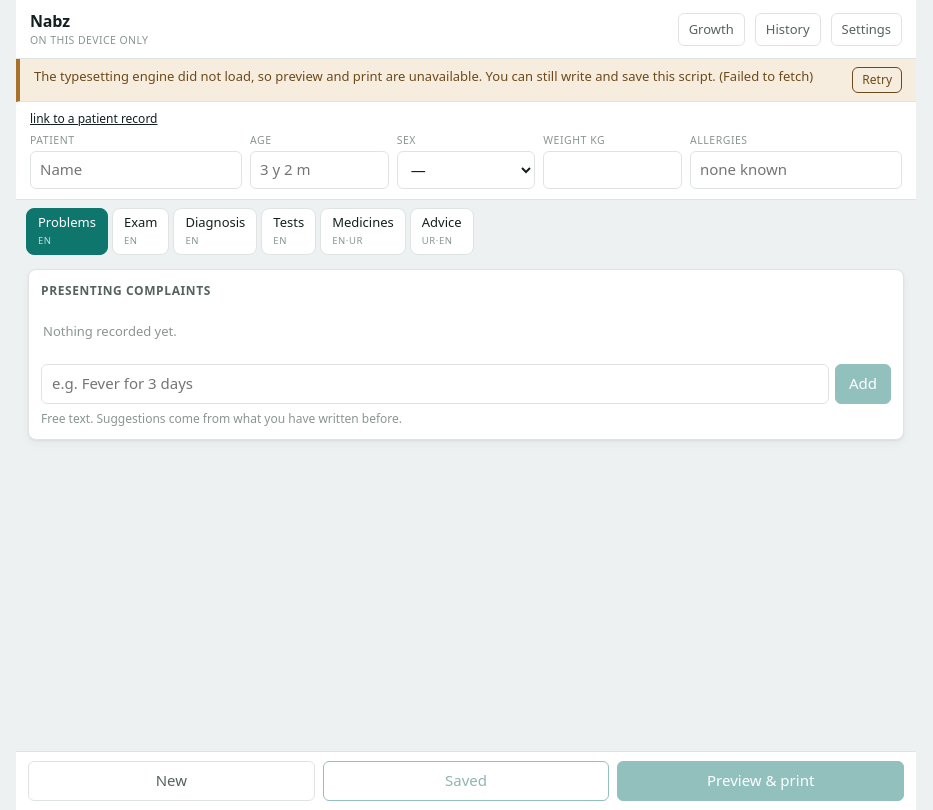
it: problems and diagnosis are free text › accepts anything typed
The width and height of the screenshot is (933, 810).
In the field with placeholder "e.g. Fever for 3 days": (435,384) [41, 364, 829, 404], type "Fever for 3 days"
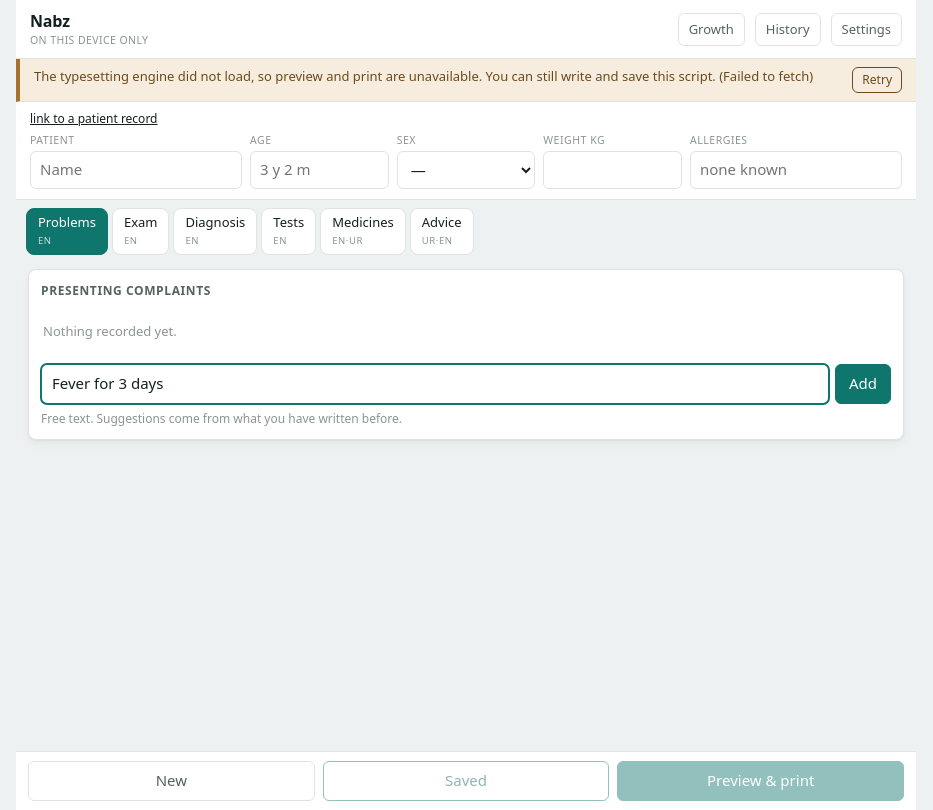
Click the button "Add": (863,384) [835, 364, 891, 404]
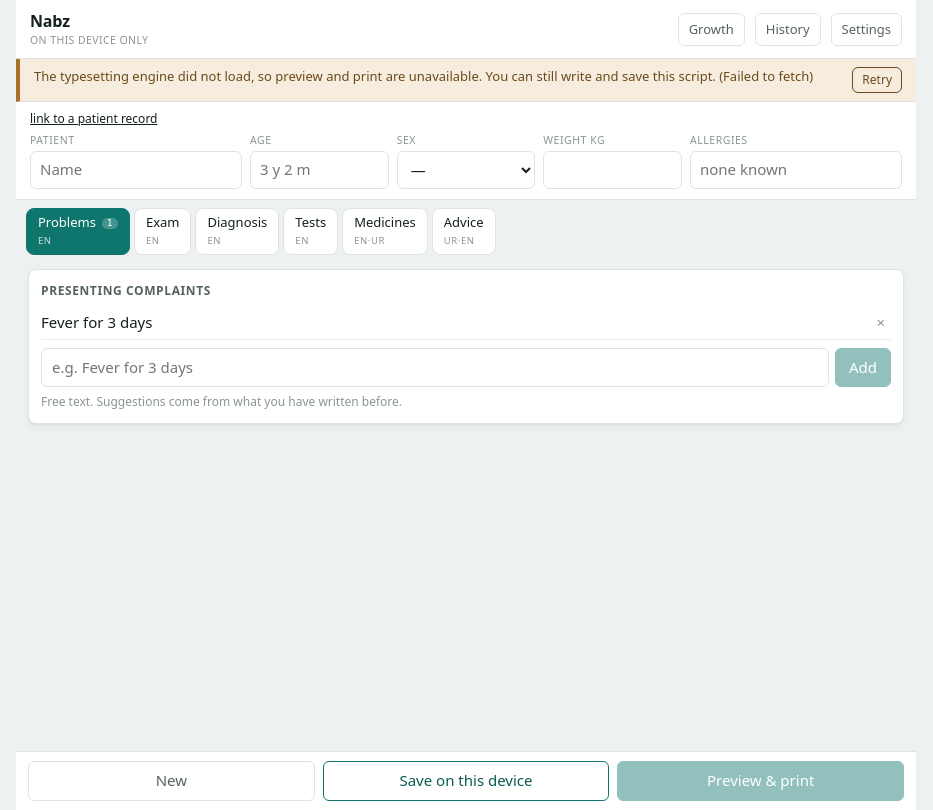
Check: the text "Fever for 3 days" is shown, box [41, 312, 152, 332]
Check: the tab "Problems 1 EN" is shown, box [26, 208, 130, 255]
